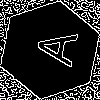A: (25, 25, 79, 68)
